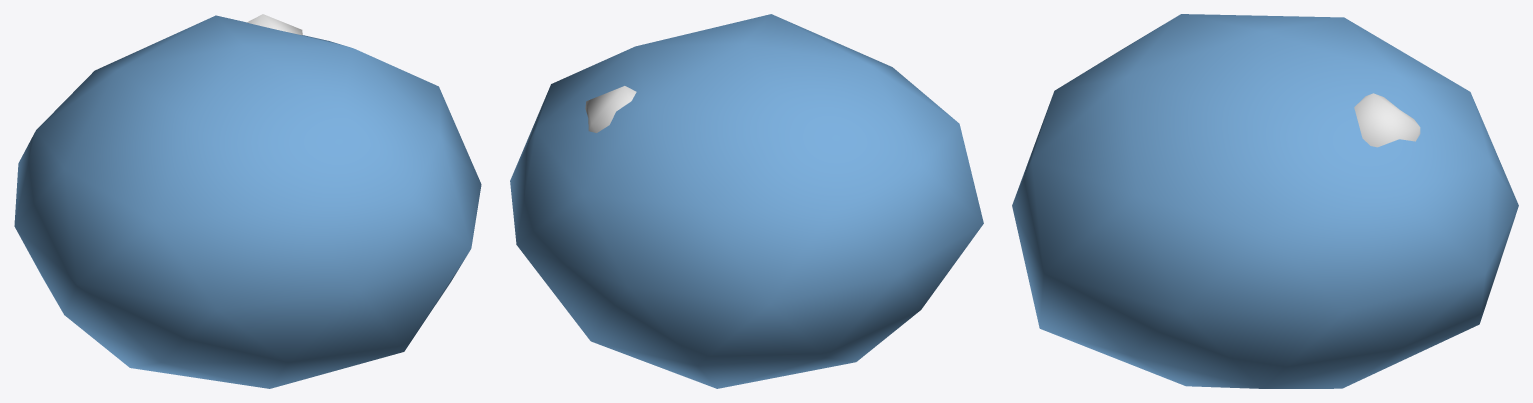
File: ectoplasm.glb
3 views of the same model, side by side, from view 1: azimuth 30°, elevation 25°; view 2: azimuth 150°, elevation 25°; view 3: azimuth 270°, elevation 25° (orthographic). The views are drawn at different scales.
Parts seen in each view (by area): view 1: ectoplasm_v0; view 2: ectoplasm_v0; view 3: ectoplasm_v0.
Part boxes in pixels (<box>): ectoplasm_v0: <box>14,14,481,388</box>; ectoplasm_v0: <box>510,14,983,388</box>; ectoplasm_v0: <box>1012,14,1518,388</box>.
Bounding box in the file's own units: 0.2309 × 0.1733 × 0.2303.
